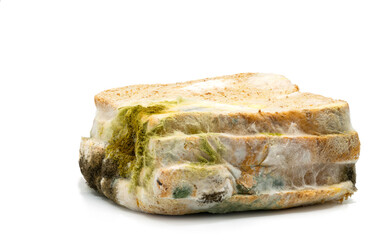mold_bread: (72, 101, 172, 209), (173, 171, 226, 211), (253, 169, 289, 208), (191, 128, 224, 164), (323, 103, 356, 133), (337, 160, 360, 195), (234, 178, 254, 198)
